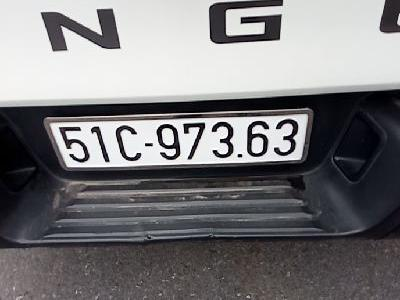car: (45, 110, 313, 173)
